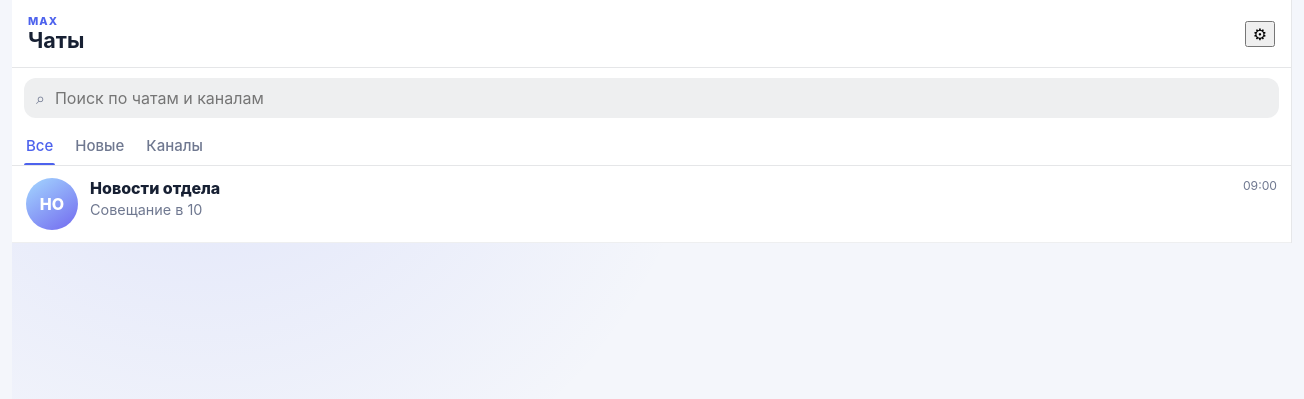
Test: global chat search › lists the viewer's own chats above the global results
Step 1. Type "новости" into the search field → (660, 98), box [53,78,1267,118]
Wait 350 ms
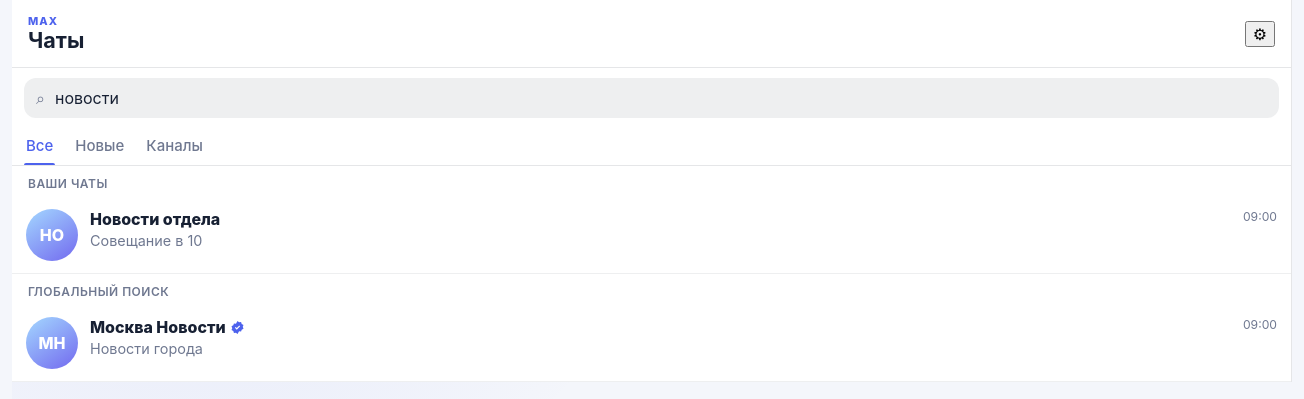
Now the text "Ваши чаты" is shown, box [12,166,1291,197]
Now the text "Глобальный поиск" is shown, box [12,274,1291,305]
Now the text "Новости города" is shown, box [90,340,203,357]
